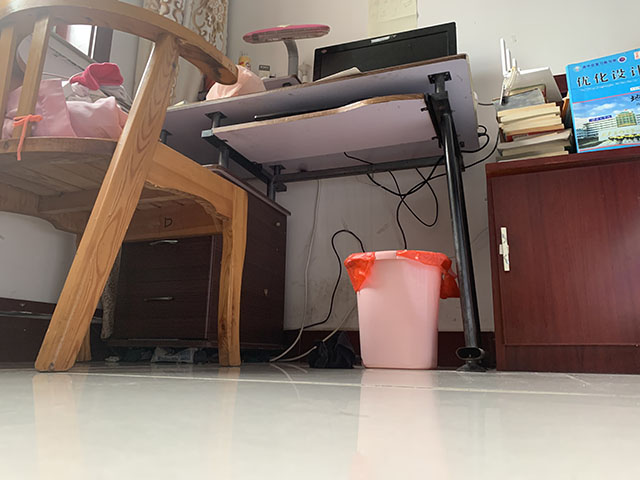cabinet: (483, 145, 640, 377)
stool: (1, 1, 247, 374)
table: (103, 53, 487, 376)
trashcan: (344, 249, 460, 371)
wire: (268, 167, 427, 364)
